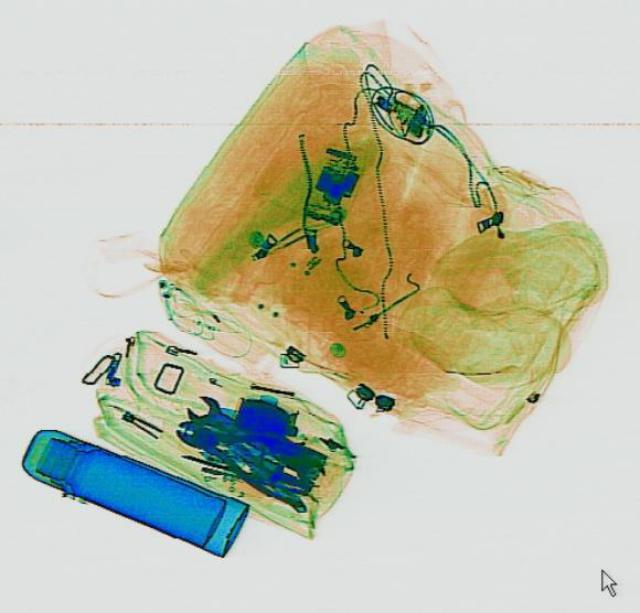Pliers: (163, 402, 304, 498)
Wrench: (180, 388, 296, 461)
